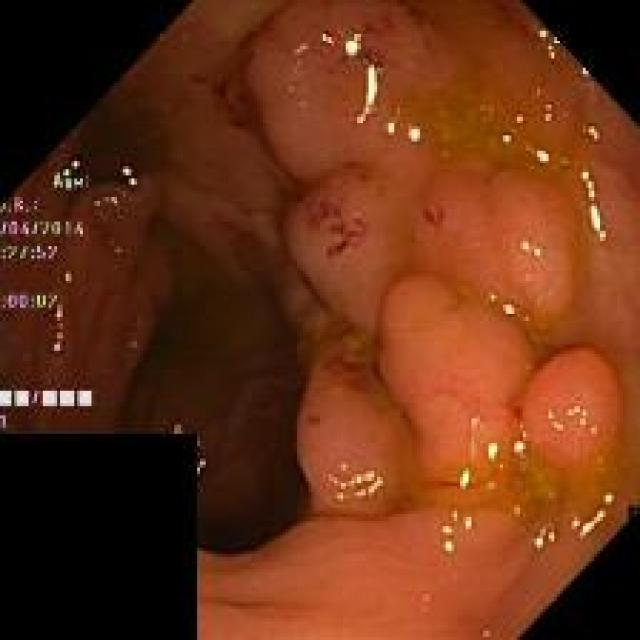Polyps: (0, 3, 640, 640), (380, 275, 536, 503), (415, 170, 600, 349), (296, 333, 414, 518), (285, 171, 411, 333), (521, 349, 622, 472)
